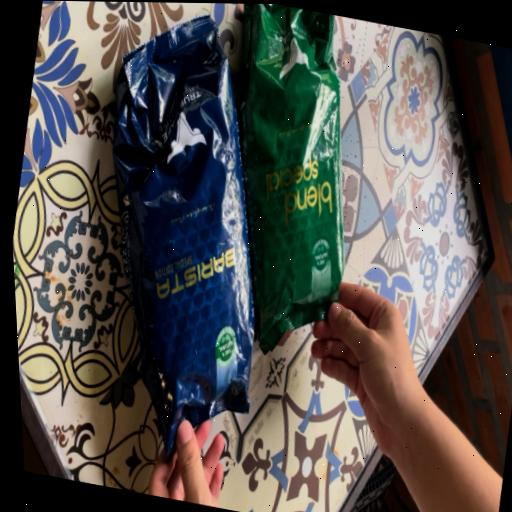cafe_hat: (111, 16, 253, 453)
cafe_xay: (237, 4, 344, 352)
